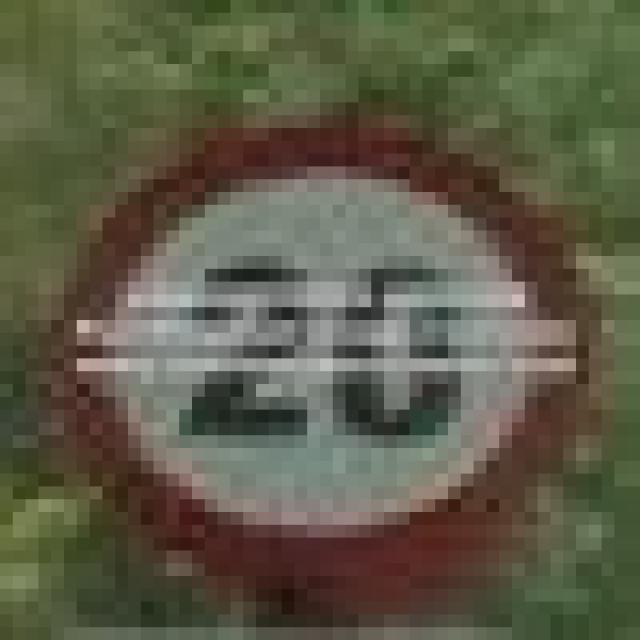road_slippery: (38, 90, 589, 588)
